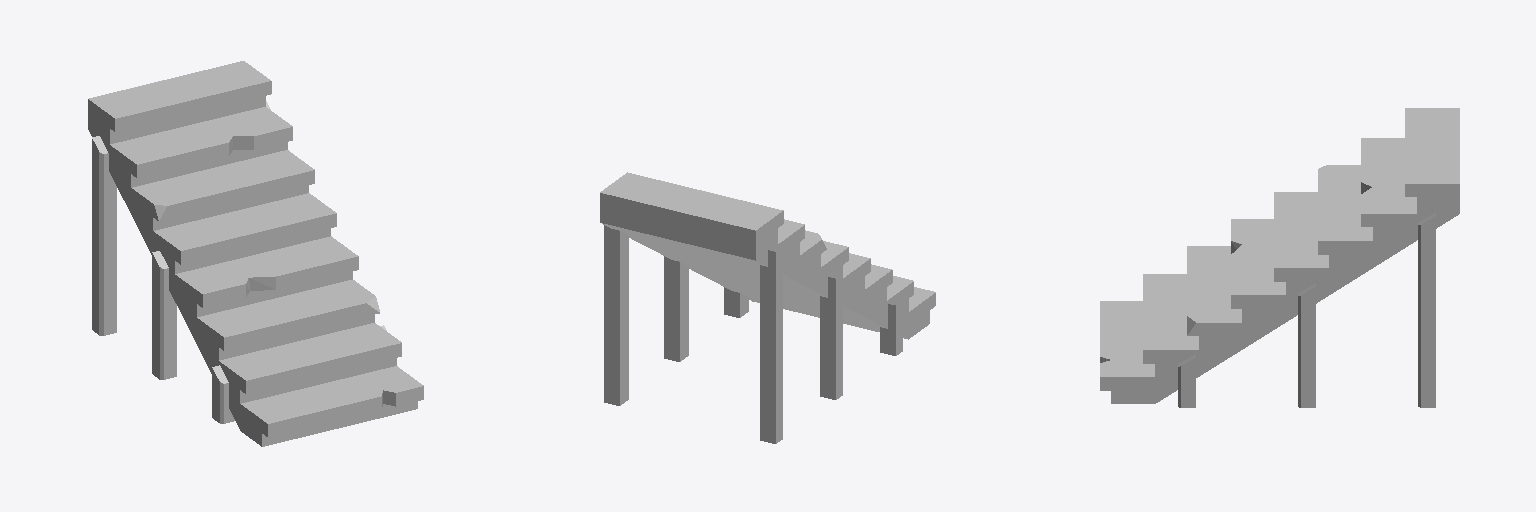
Rendered from stairs_wood.obj.
3 views of the same model, side by side, from view 1: azimuth 30°, elevation 25°; view 2: azimuth 150°, elevation 25°; view 3: azimuth 270°, elevation 25° (orthographic).
Parts seen in each view (by area): view 1: stairs_wood_Cube.13700; view 2: stairs_wood_Cube.13700; view 3: stairs_wood_Cube.13700.
Boxes of the visible parts, x1,y1,x2,y2 form: stairs_wood_Cube.13700: [88, 61, 423, 446]; stairs_wood_Cube.13700: [600, 172, 935, 443]; stairs_wood_Cube.13700: [1100, 108, 1459, 407].
Size of the model in its own units: 3.3 by 4.05 by 6.